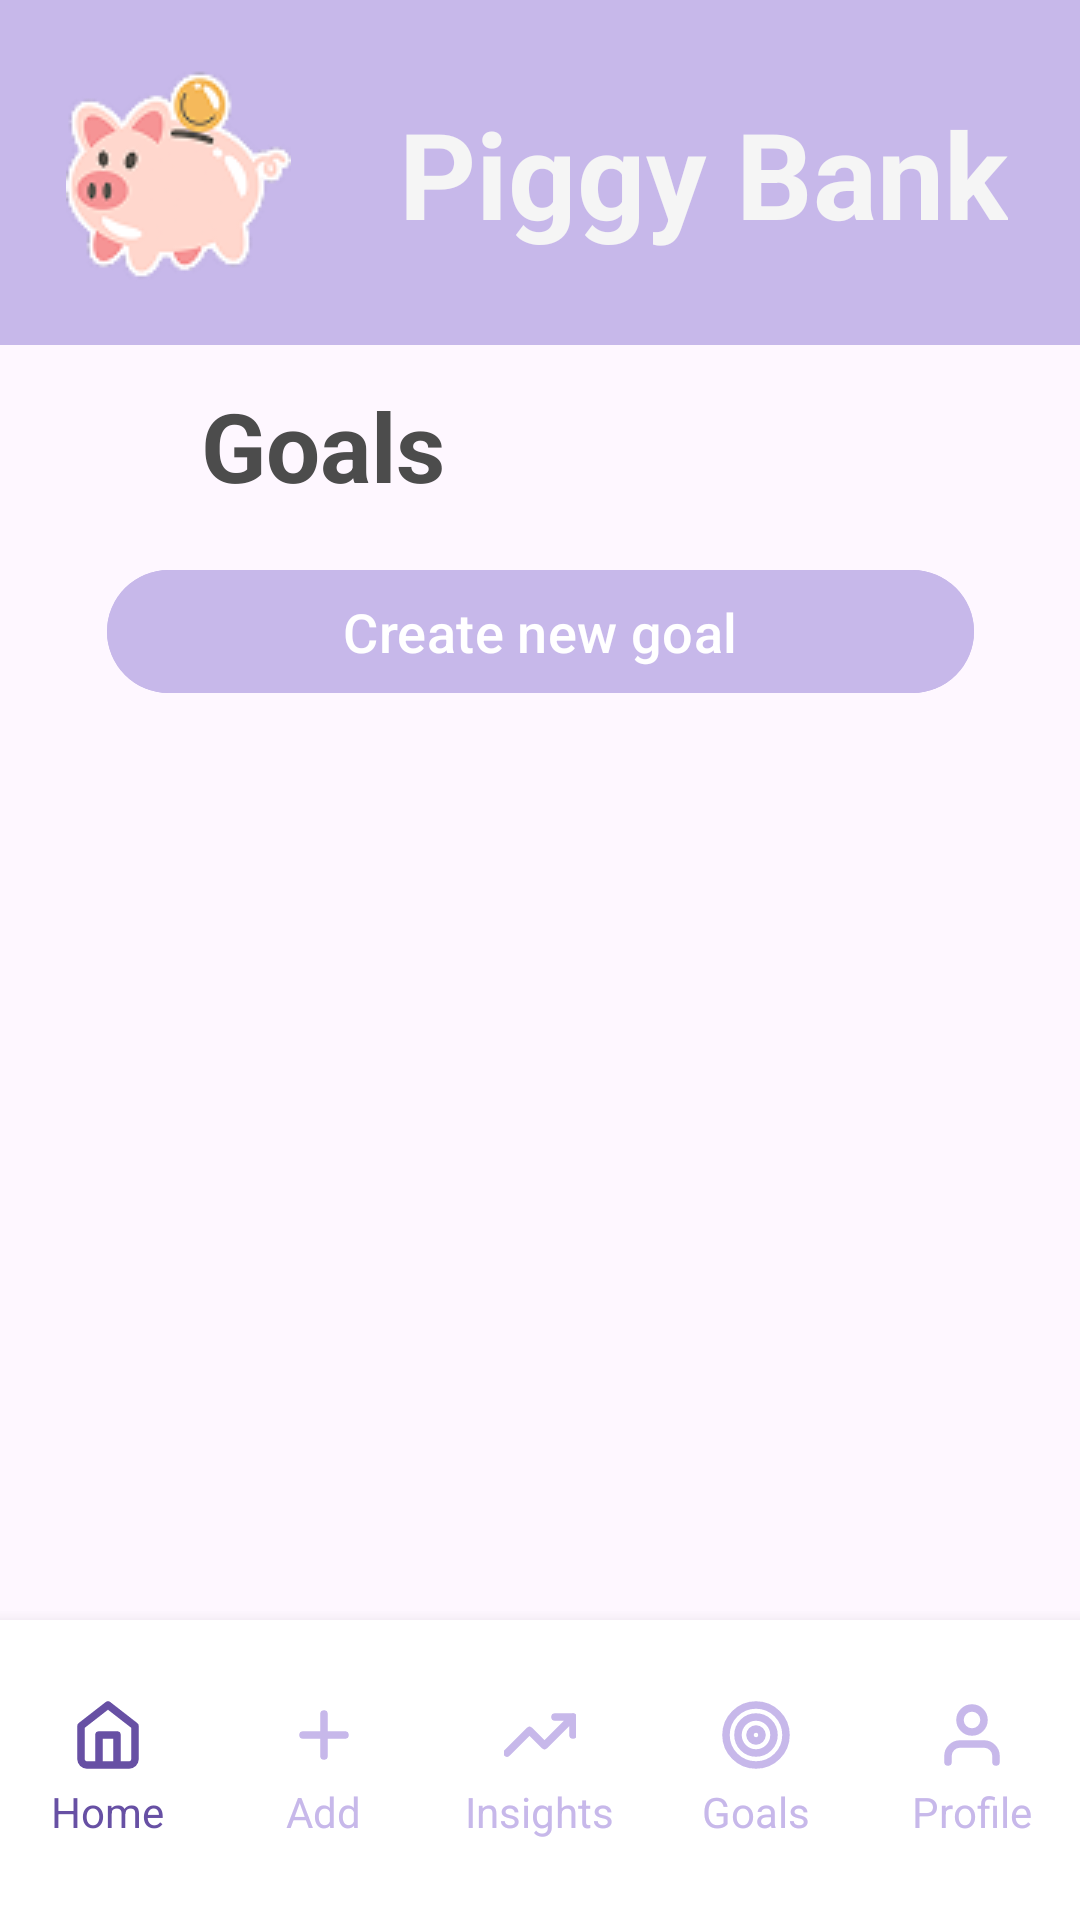

Icons on this 1080*1920 Android screen, each with its box as rect(x1, y1, x2, y2):
plus: rect(299, 1710, 349, 1760)
